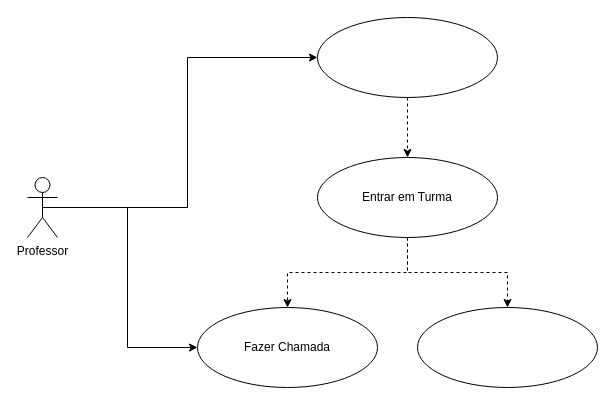
Some shapes in this 615 by 405 pixel diagram are drawn without their labels. Here are the shapes that lost their labels. From the top down, the centre of each, then its label:
point 407,57: Login
point 507,347: Ver Lista de Frequência da Turma
